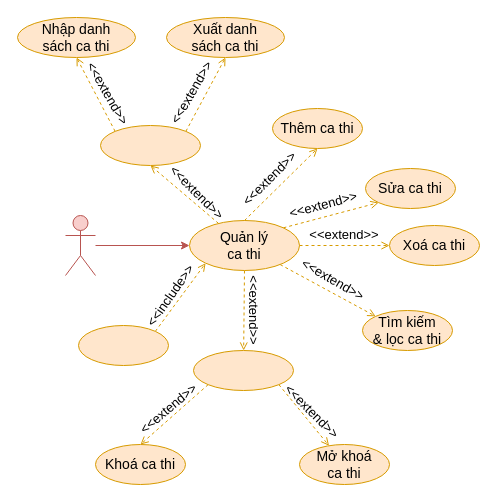
Image size: 497x502. Some labels were removed from this diagram. Each missing label, with the centre of its shape:
"Khoá/Mở khoá" belongs at point 243,370.
"Nhập/Xuất" belongs at point 150,145.
"Quản trị hệ thống" belongs at point 80,245.
"Đăng nhập" belongs at point 123,345.
